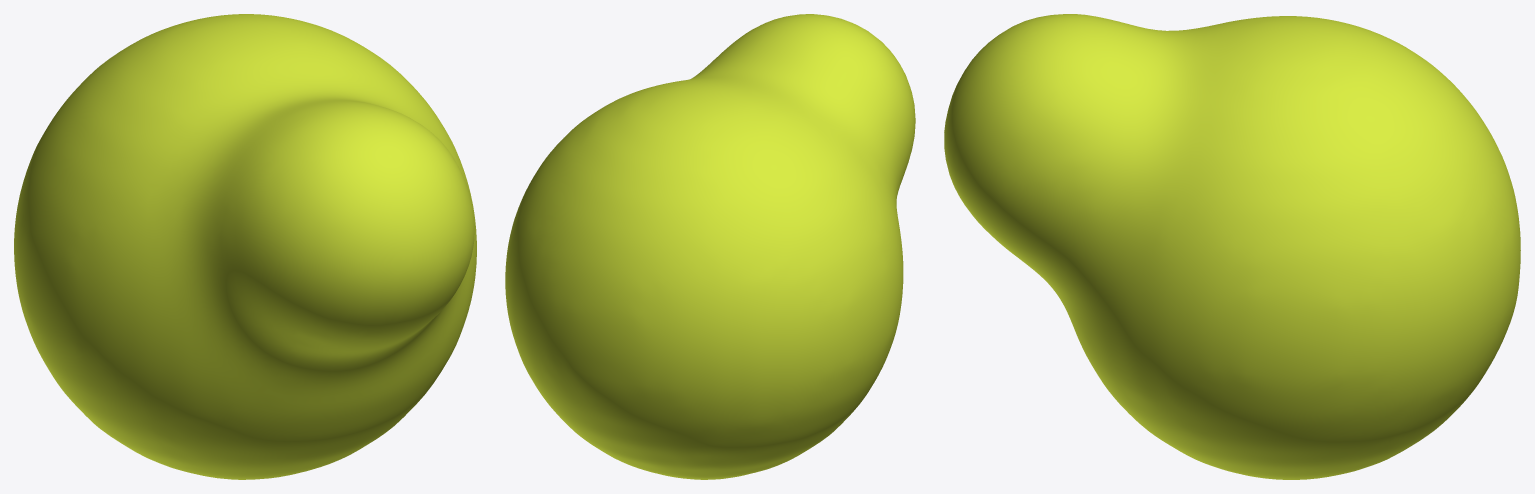
File: SM_Hat_Hair_02.fbx
The picture shows the model from 3 angles, left to right: view 1: azimuth 30°, elevation 25°; view 2: azimuth 150°, elevation 25°; view 3: azimuth 270°, elevation 25°; orthographic projection. The views are drawn at different scales.
Visible parts, largest first — view 1: SM_Hat_Hair_02; view 2: SM_Hat_Hair_02; view 3: SM_Hat_Hair_02.
Part boxes in pixels (x1=…): SM_Hat_Hair_02: x1=14, y1=14, x2=476, y2=479; SM_Hat_Hair_02: x1=505, y1=14, x2=915, y2=479; SM_Hat_Hair_02: x1=944, y1=14, x2=1520, y2=479.
Size of the model in its own units: 43.53 by 44.54 by 54.6.
